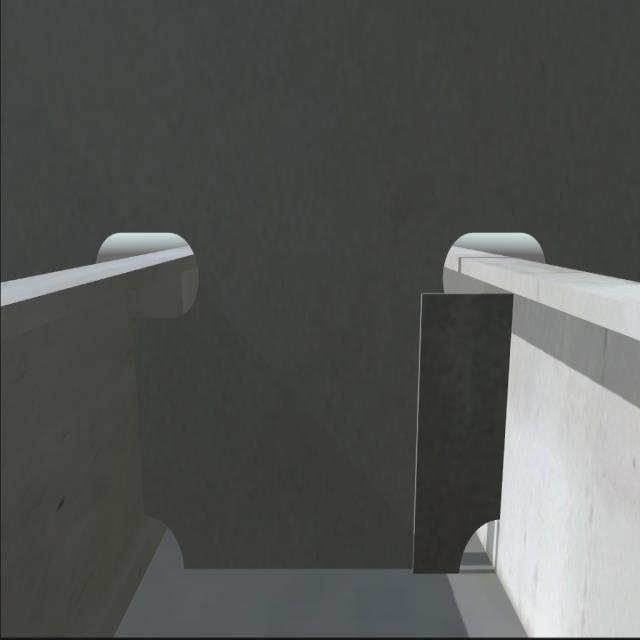fillet_hole: (458, 518, 500, 580), (148, 514, 184, 565)
fillet_yong_jeop_jang: (180, 554, 482, 582)
longi_yong_jeop_jang: (488, 284, 520, 524), (129, 311, 159, 534)
plate_CP01: (420, 296, 504, 566)
